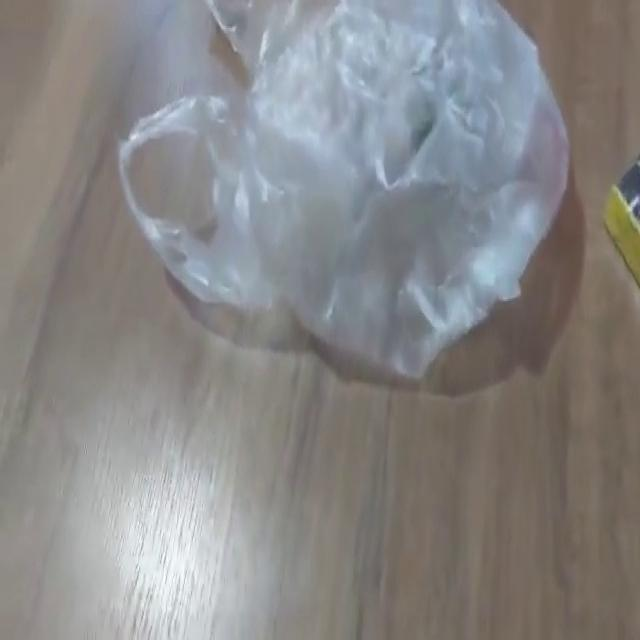Anorganik: (114, 2, 575, 388)
